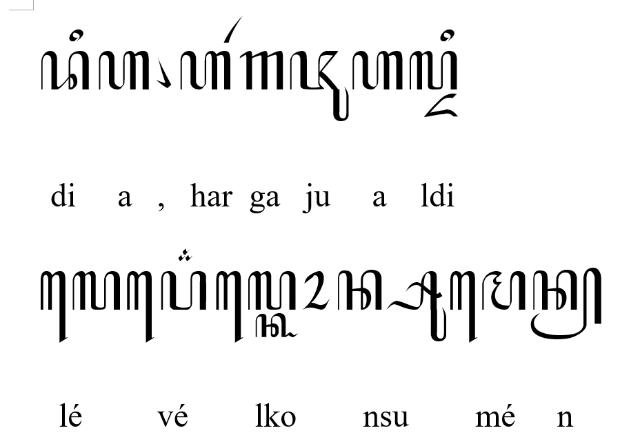-n: (530, 267, 602, 341)
_d: (424, 92, 458, 118)
_k: (254, 314, 300, 338)
_r1: (222, 15, 244, 43)
_su: (386, 270, 446, 344)
alt: (177, 248, 193, 262)
d: (40, 50, 90, 92)
e1: (38, 272, 68, 344), (126, 270, 154, 344), (215, 271, 243, 343), (450, 272, 478, 344)
g: (240, 51, 284, 91)
h: (180, 50, 232, 90), (352, 50, 404, 90), (99, 50, 150, 90)
i: (68, 28, 84, 42), (440, 29, 454, 43)
ju: (288, 50, 349, 122)
kom: (154, 56, 172, 89)
l: (72, 270, 122, 312), (246, 271, 298, 311), (408, 50, 458, 90)
m: (482, 270, 526, 312)
n: (337, 270, 383, 312)
o: (302, 271, 330, 311)
p: (160, 272, 208, 312)
